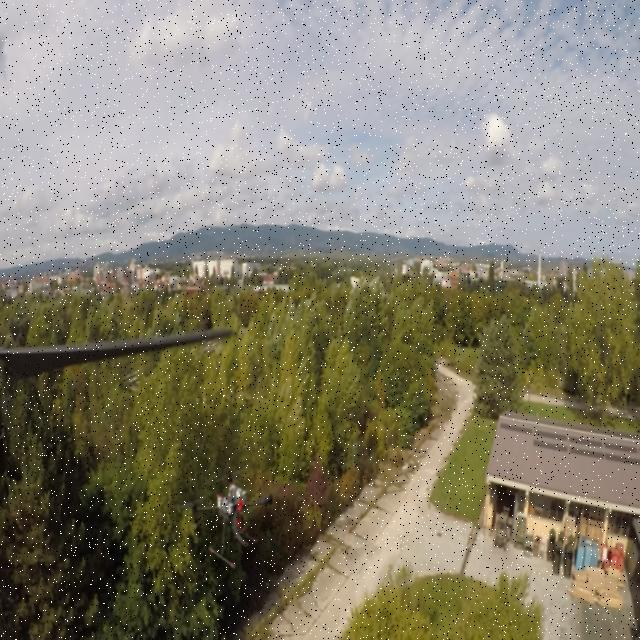UAV: (179, 466, 279, 572)
